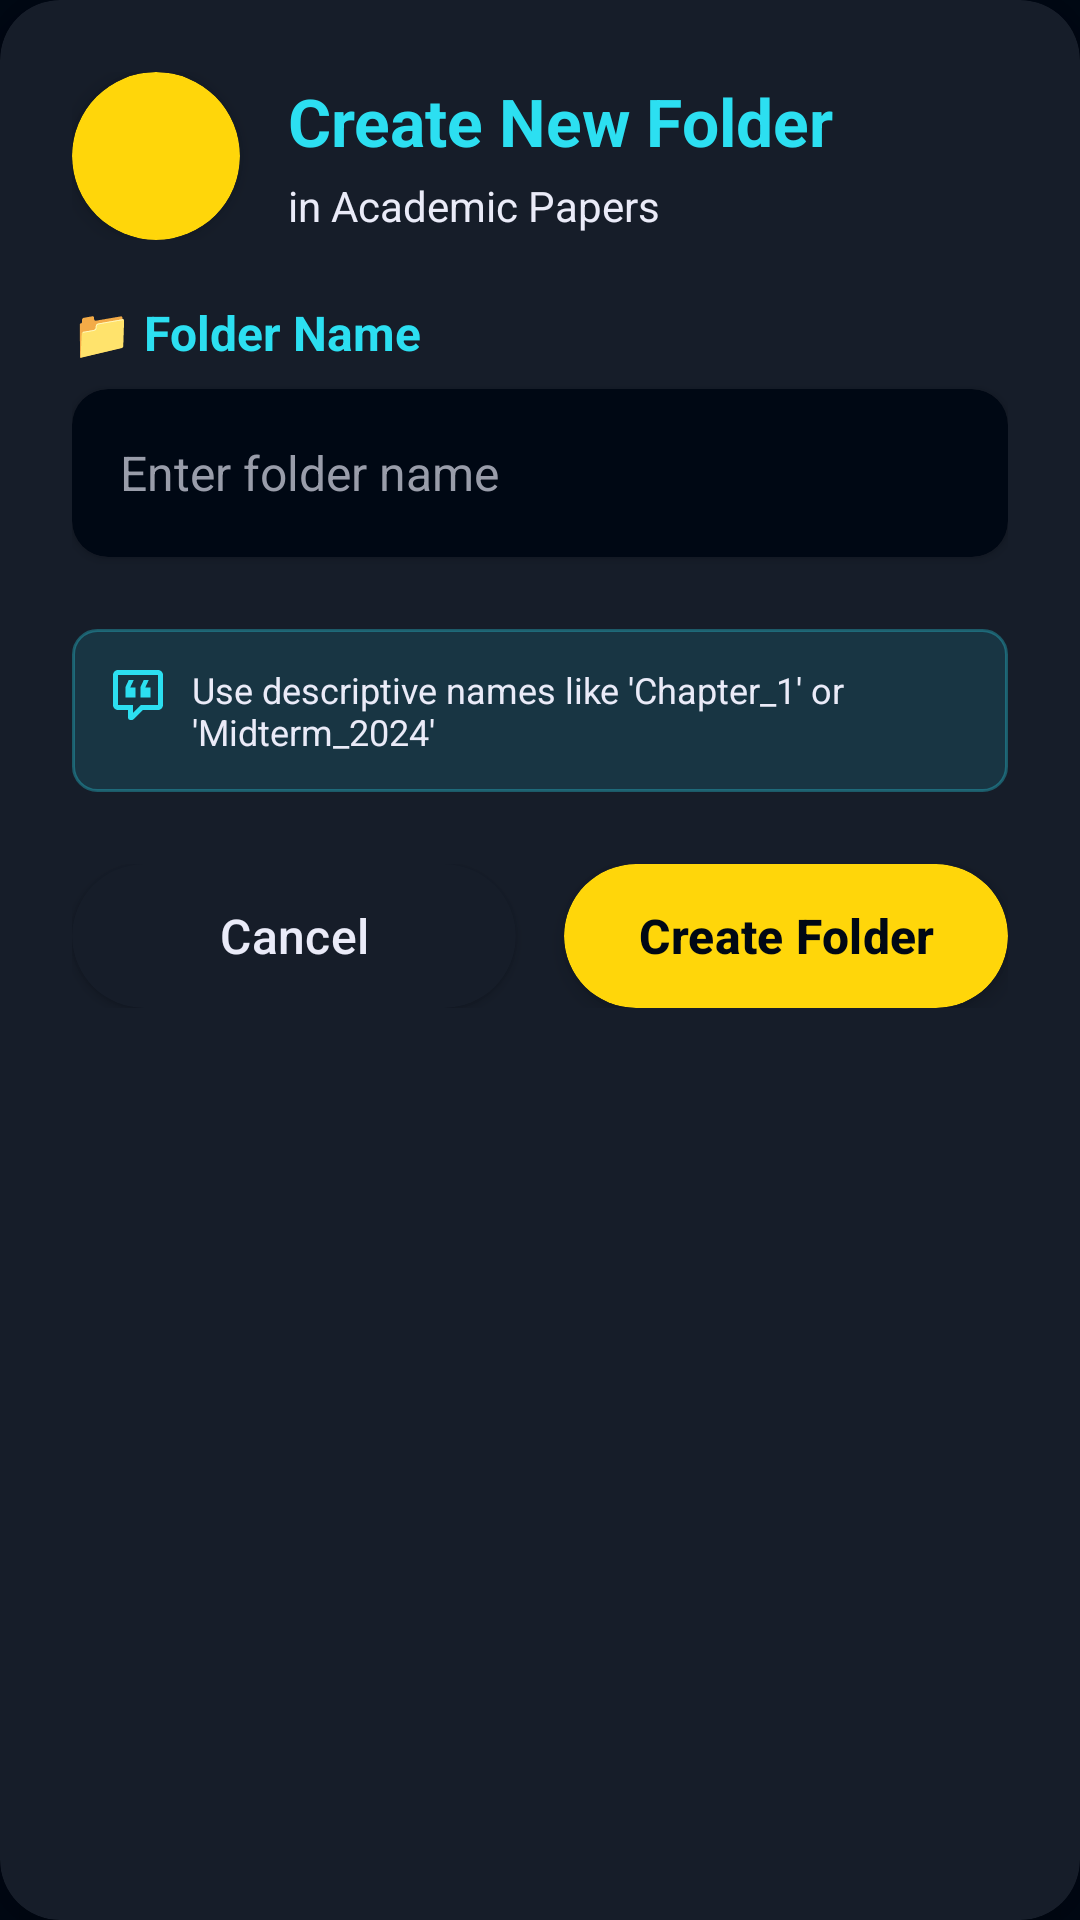

Where icons sit on this 1080px x 1920px app screen, as BBox(x1, y1, x2, y2):
feedback: BBox(113, 670, 163, 720)
